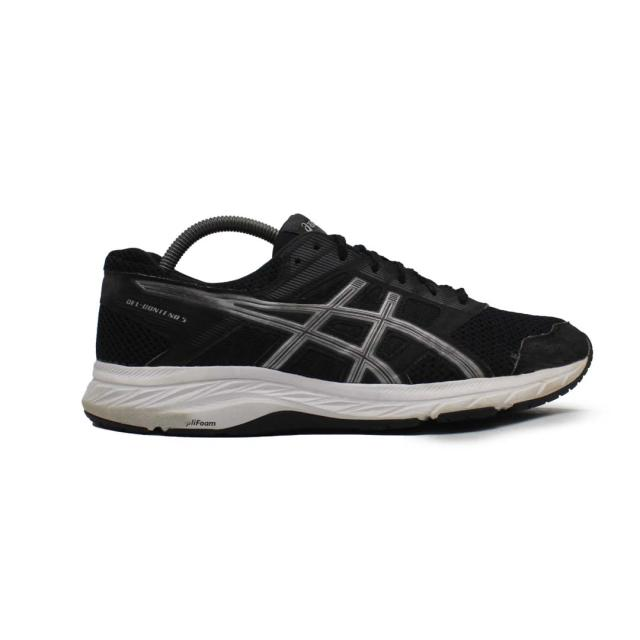heel: (95, 250, 170, 366)
midsole: (82, 357, 587, 435)
uppersole: (165, 214, 598, 385)
